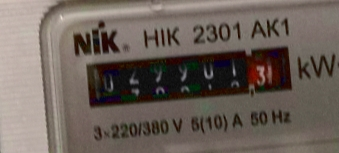0: (200, 56, 217, 83), (100, 71, 117, 94)
1: (227, 54, 241, 79)
2: (126, 64, 142, 87)
3: (253, 64, 270, 88)
9: (176, 61, 190, 85), (151, 62, 165, 84)
screen: (78, 38, 303, 119)
